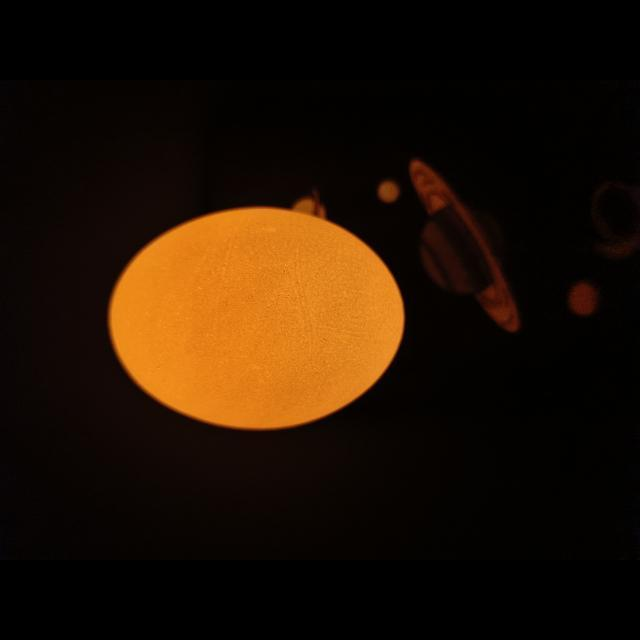AA - Premium: (109, 208, 404, 430)
